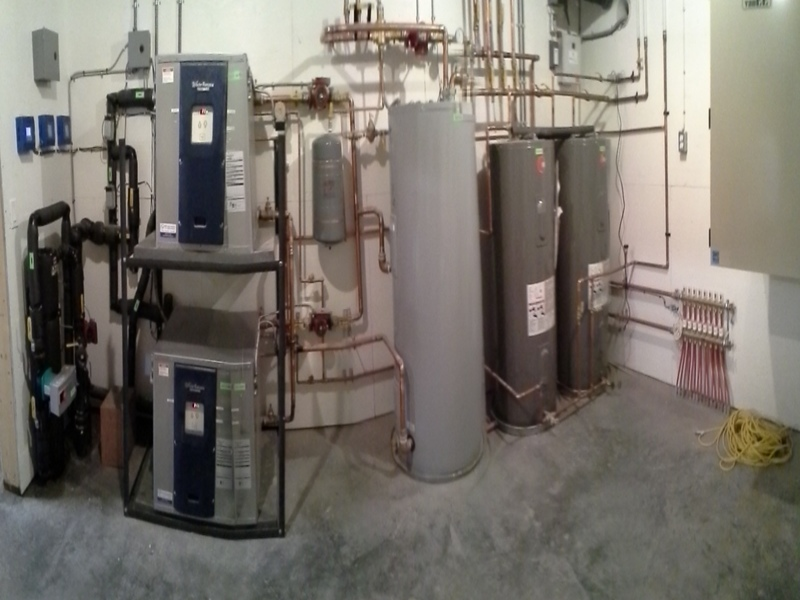valve: (124, 185, 140, 219), (321, 98, 335, 123)
